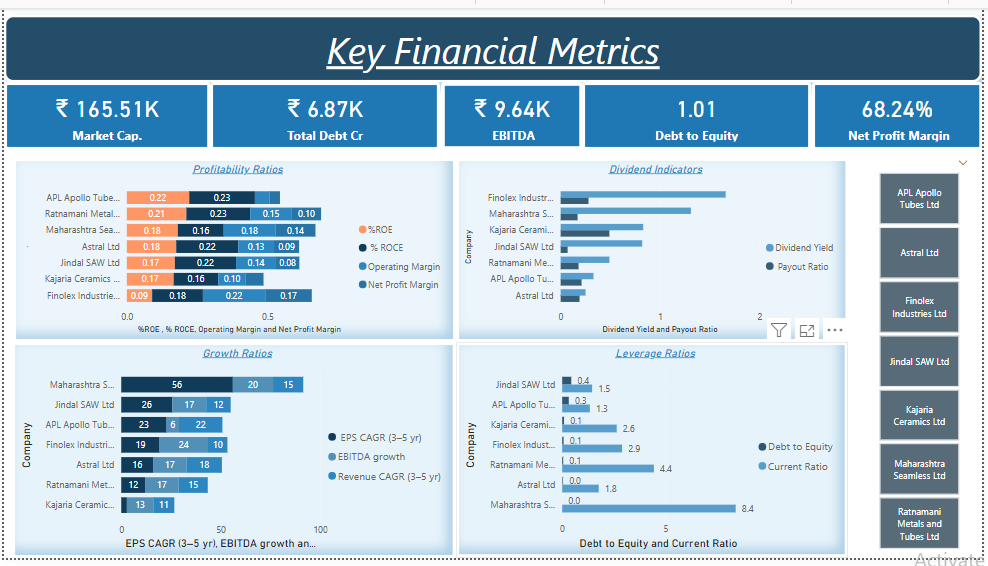

What the dashboard file says about the page in this screenshot:
{"tool":"powerbi","page":{"name":"Financial Metrics","canvas":[1280,720],"ordinal":4},"visuals":[{"type":"textbox","box":[0,9.2,1280.3,87.7],"z":0},{"type":"slicer","fields":{"Values":["Sheet2.Company"]},"box":[1115.7,185.7,164.3,534.3],"z":1000},{"type":"barChart","title":"Profitability Ratios ","fields":{"Category":["Sheet2.Company"],"Y":["Sum(Sheet2.ROE (Return on Equity))","Sum(Sheet2.ROCE (Return on Capital Employed))","Sum(Sheet2.Operating Margin)","Sum(Sheet2.Net Profit Margin)"]},"box":[11.4,195.7,580,241.4],"z":2000},{"type":"barChart","title":"Growth Ratios","fields":{"Y":["Sum(Sheet2.EPS CAGR (3–5 yr))","Sum(Sheet2.EBITDA growth)","Sum(Sheet2.Revenue CAGR (3–5 yr))"],"Category":["Sheet2.Company"]},"box":[10,437.1,581.4,282.9],"z":3000},{"type":"clusteredBarChart","title":"Dividend Indicators ","fields":{"Category":["Sheet2.Company"],"Y":["Sum(Sheet2.Dividend Yield)","Sum(Sheet2.Payout Ratio)"]},"box":[591.4,195.7,514.3,241.4],"z":4000},{"type":"clusteredBarChart","title":"Leverage  Ratios","fields":{"Y":["Sum(Sheet2.Debt to Equity)","Sum(Sheet2.Current Ratio)"],"Category":["Sheet2.Company"]},"box":[591.8,437.7,513.4,282.2],"z":5000},{"type":"card","fields":{"Values":["Sum(EV.Maeket cap)"]},"box":[0,97.1,270,88.6],"z":6000},{"type":"card","fields":{"Values":["Sum(Sheet2.Net Profit Margin)"]},"box":[1057.1,97.1,222.9,88.6],"z":7000},{"type":"card","fields":{"Values":["Sum(Sheet2.Debt to Equity)"]},"box":[757.1,97.1,300,88.6],"z":8000},{"type":"card","fields":{"Values":["Sum(EV.Total Debt Cr)"]},"box":[270,97.1,301.4,88.6],"z":9000},{"type":"card","fields":{"Values":["Sum(EV.EBITDA)"]},"box":[571.4,97.1,185.7,88.6],"z":10000}]}

Visuals, with their boxes on the page's 1280x720 design canvas (x1, y1, x2, y2). These are canvas units, not pixel positions in the 988x566 screenshot, which may show the page scaled, cropped or inside an application window:
textbox: 0,9,1280,97
slicer - Sheet2.Company: 1116,186,1280,720
"Profitability Ratios " barChart: 11,196,591,437
"Growth Ratios" barChart: 10,437,591,720
"Dividend Indicators " clusteredBarChart: 591,196,1106,437
"Leverage  Ratios" clusteredBarChart: 592,438,1105,720
card - Sum(EV.Maeket cap): 0,97,270,186
card - Sum(Sheet2.Net Profit Margin): 1057,97,1280,186
card - Sum(Sheet2.Debt to Equity): 757,97,1057,186
card - Sum(EV.Total Debt Cr): 270,97,571,186
card - Sum(EV.EBITDA): 571,97,757,186
